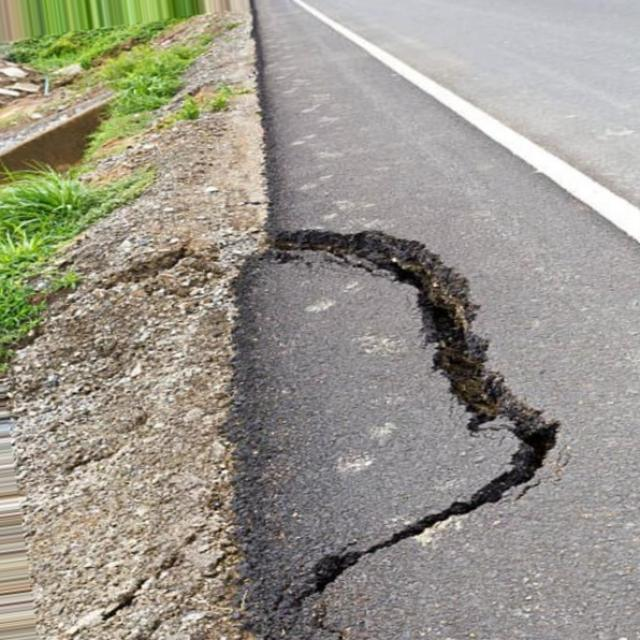Pinggir: (182, 199, 584, 624)
